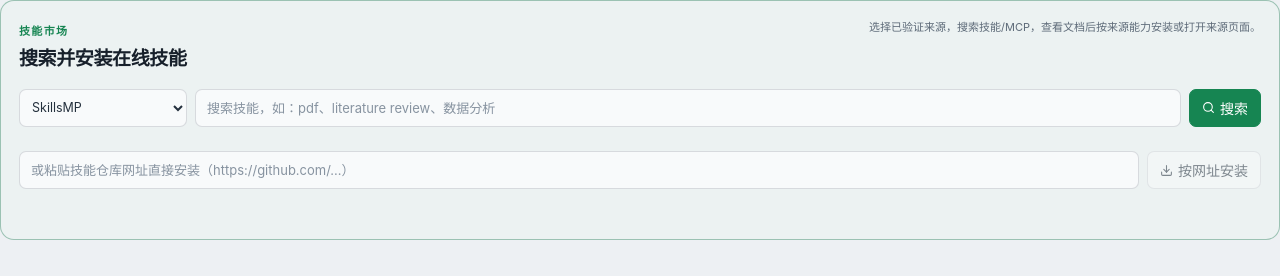
Test: MarketBrowserPanel › 搜索失败（限额）时显示令牌提示
This screenshot has width=1280, height=276.
Click the button with test id "market-search-run-skill" at (1225, 108), box [1189,89,1261,127]
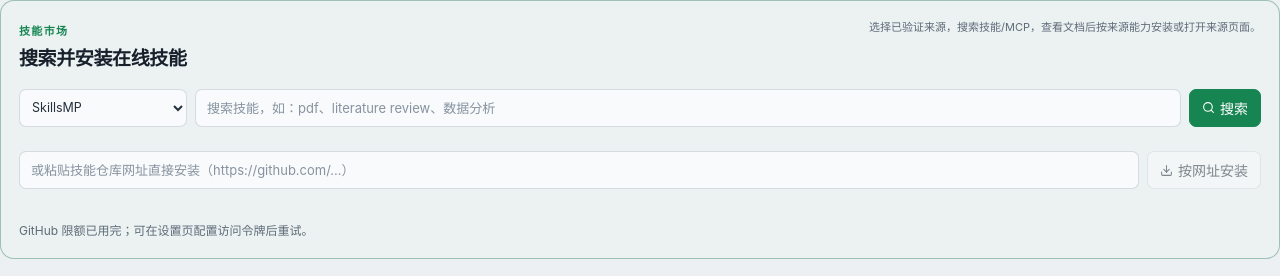
Expected: the message with test id "market-status-skill" shows "限额", [19,223,314,238]
